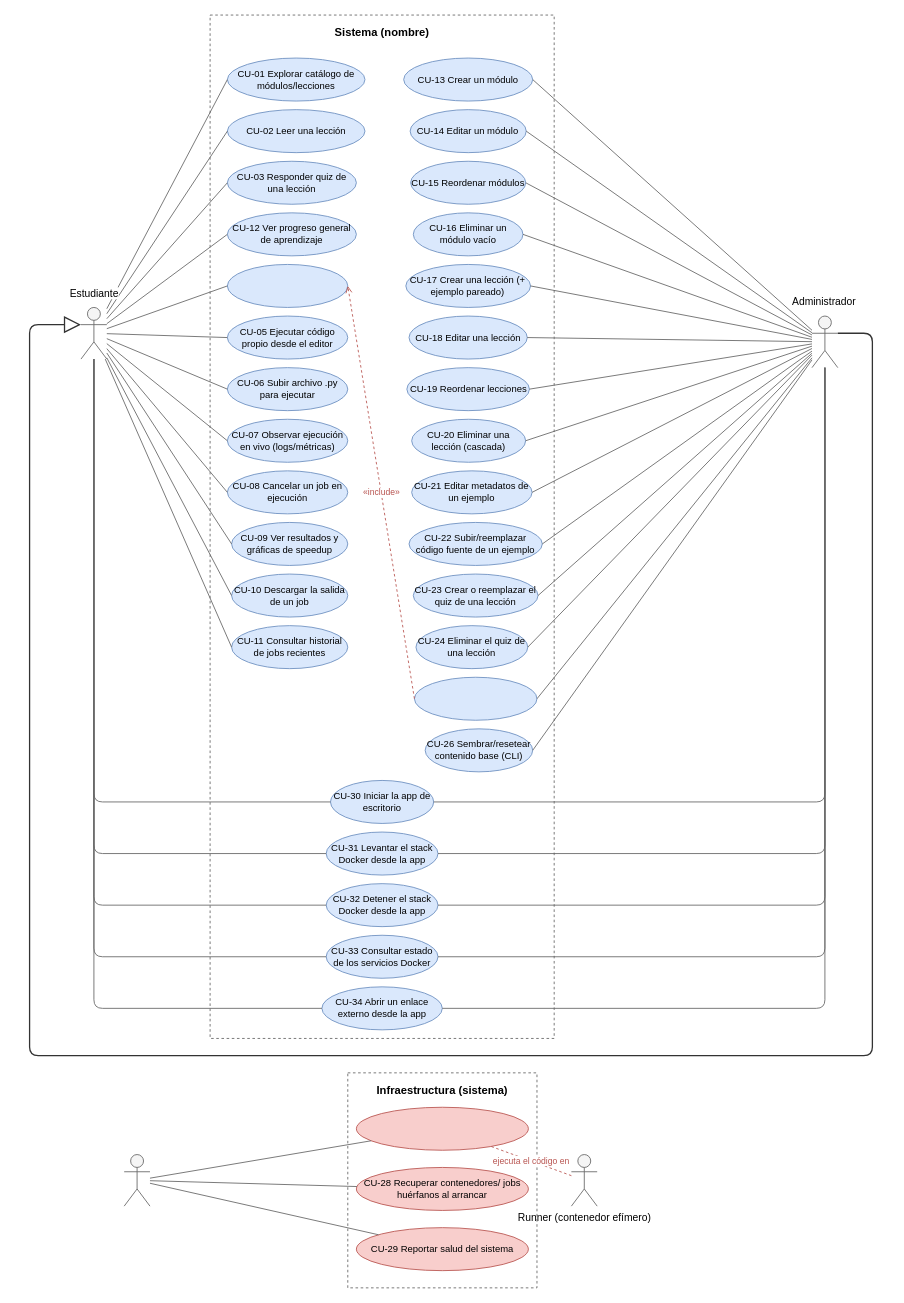
Image size: 904x1303. Some labels were removed from this diagram. Here are the shapes that lost their labels. From the top down, the centre of each, then its label:
[287,285]: CU-04 Ejecutar un ejemplo del catálogo
[475,698]: CU-25 Probar un ejemplo en el simulador
[442,1128]: CU-27 Orquestar ejecución sandboxed de un job
[136,1180]: Sistema (backend)
